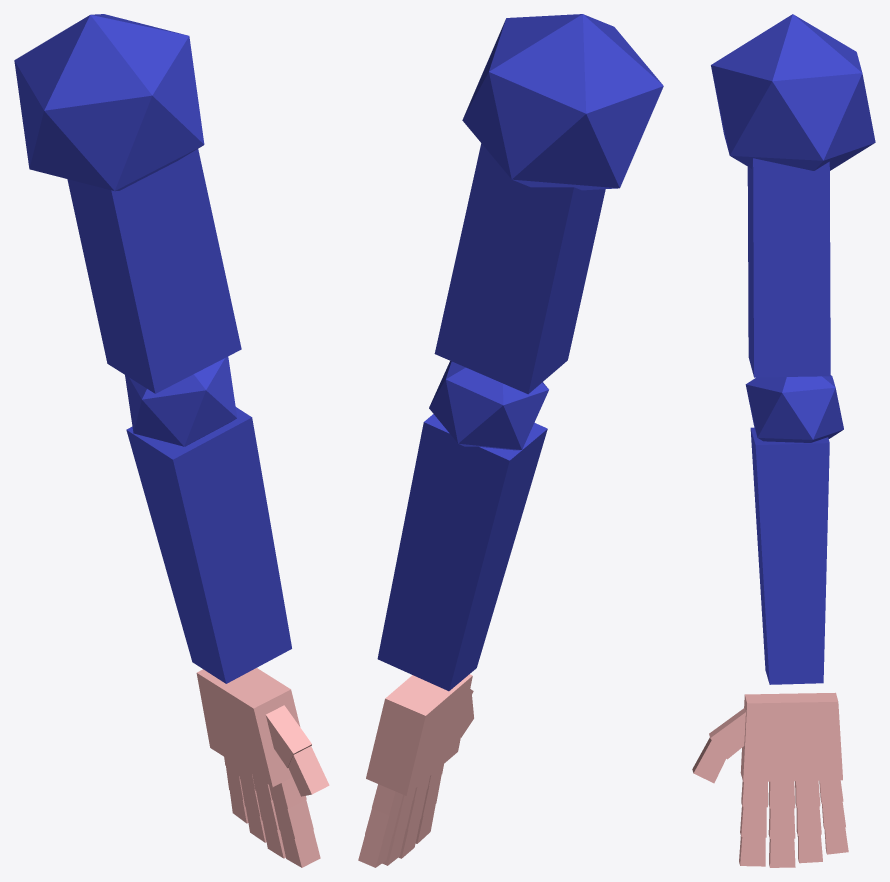
File: comisario_brazo.obj
3 renders of one model, left to right at view 1: azimuth 30°, elevation 25°; view 2: azimuth 150°, elevation 25°; view 3: azimuth 270°, elevation 25°, orthographic. The views are drawn at different scales.
Bounding box in the file's own units: 0.5086 × 1.62 × 0.3483.
